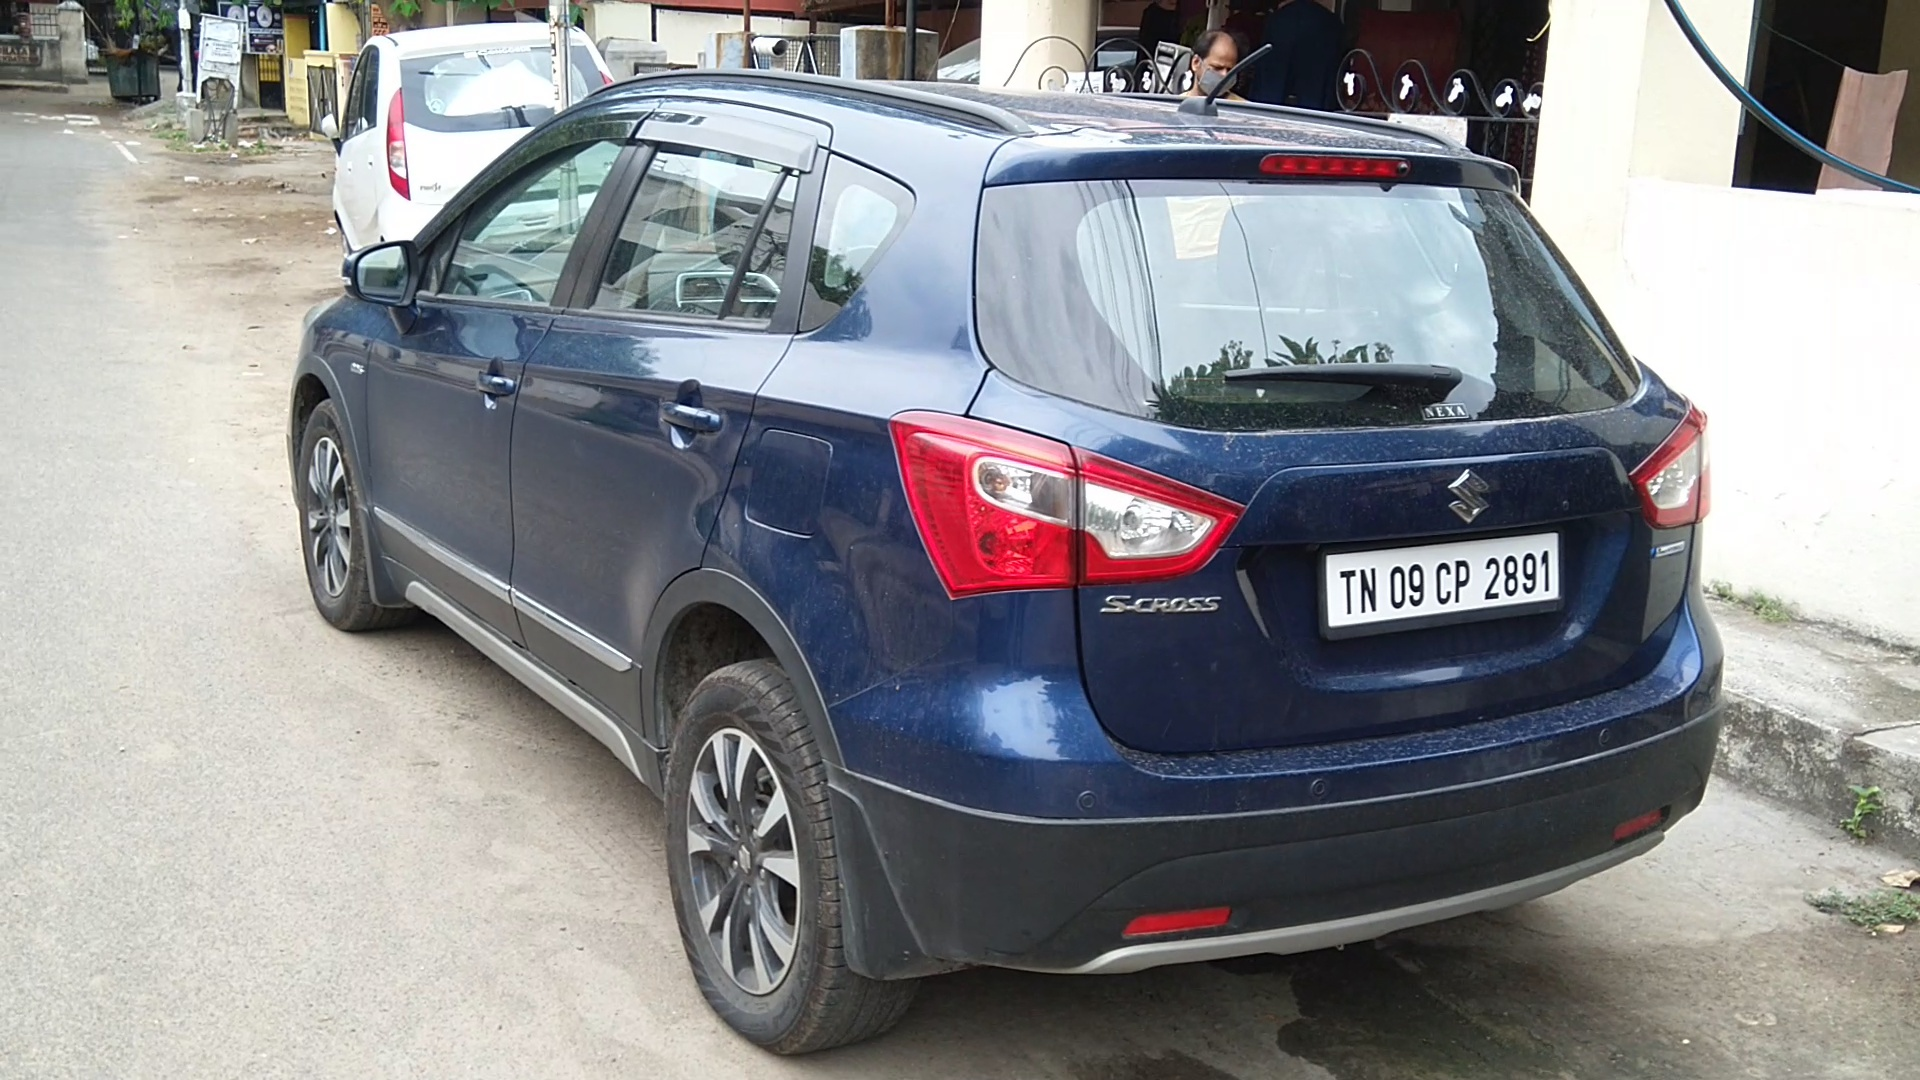alloy_wheel: (676, 663, 847, 1046), (291, 405, 373, 628)
rear_camera: (1391, 152, 1429, 193)
